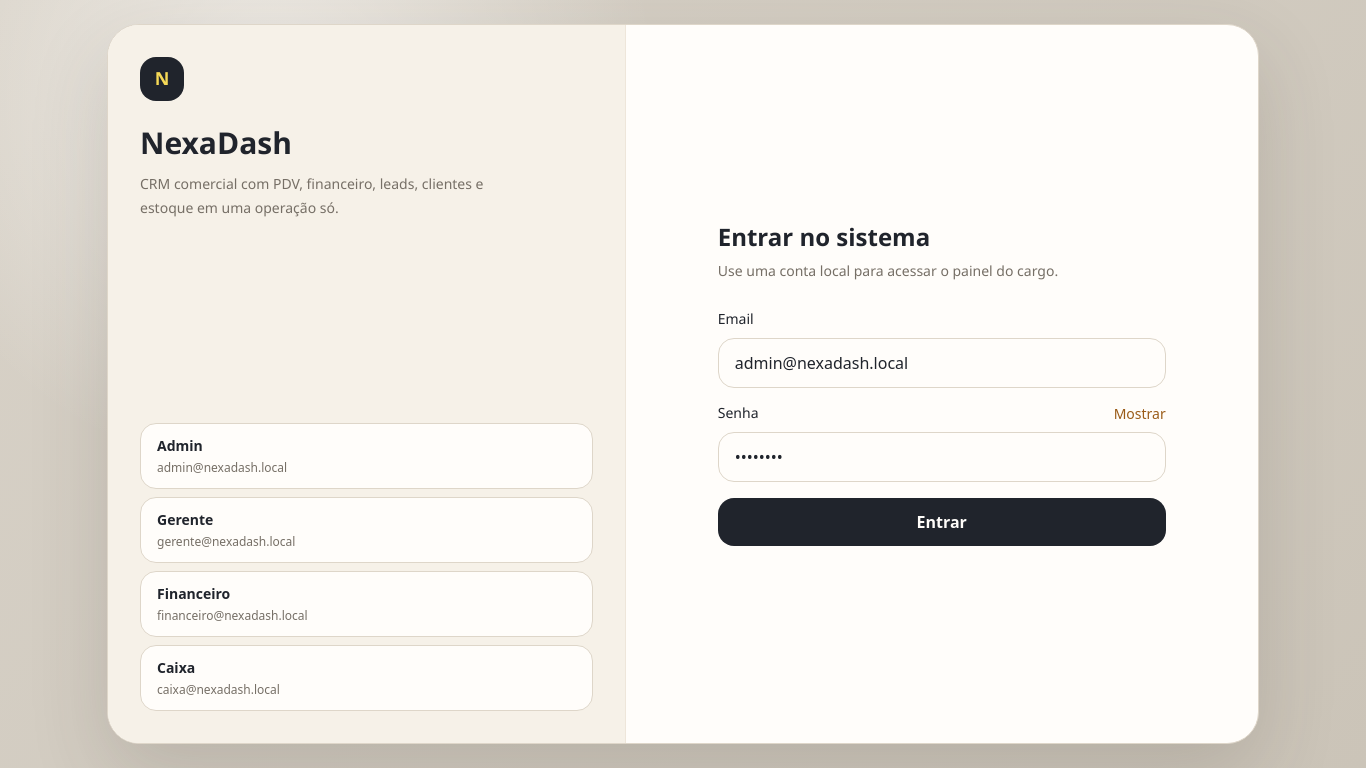
it: Login › mostra erro quando o login falha
The image size is (1366, 768).
Click the button "Entrar".
click(942, 522)  # box top-left (718, 498), bottom-right (1166, 546)
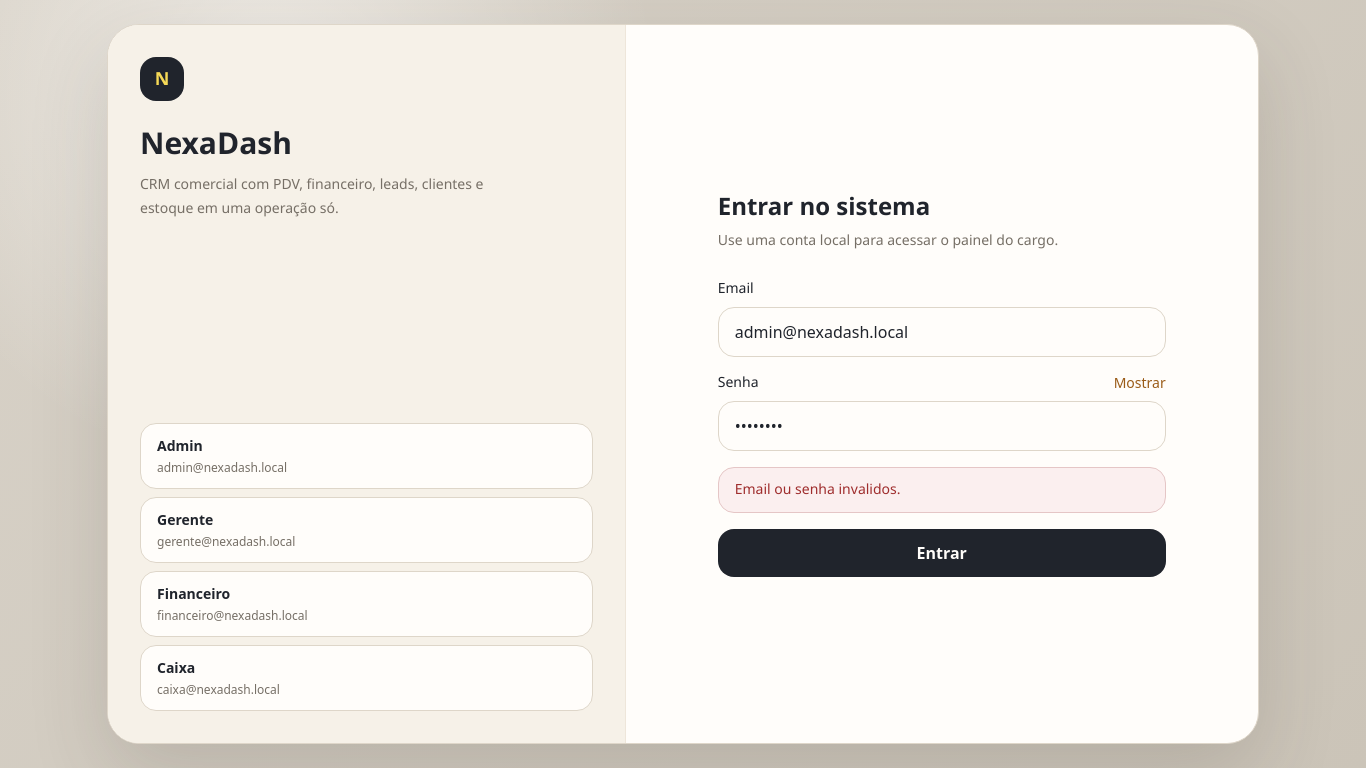
Check: the text "Email ou senha invalidos." is shown, box top-left (718, 467), bottom-right (1166, 513)
